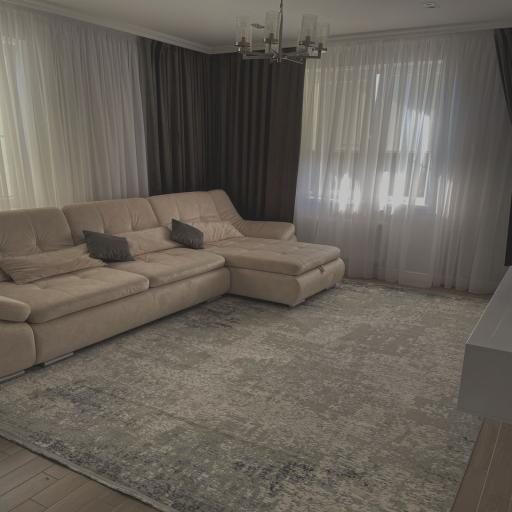sidewalk: (0, 190, 343, 381)
